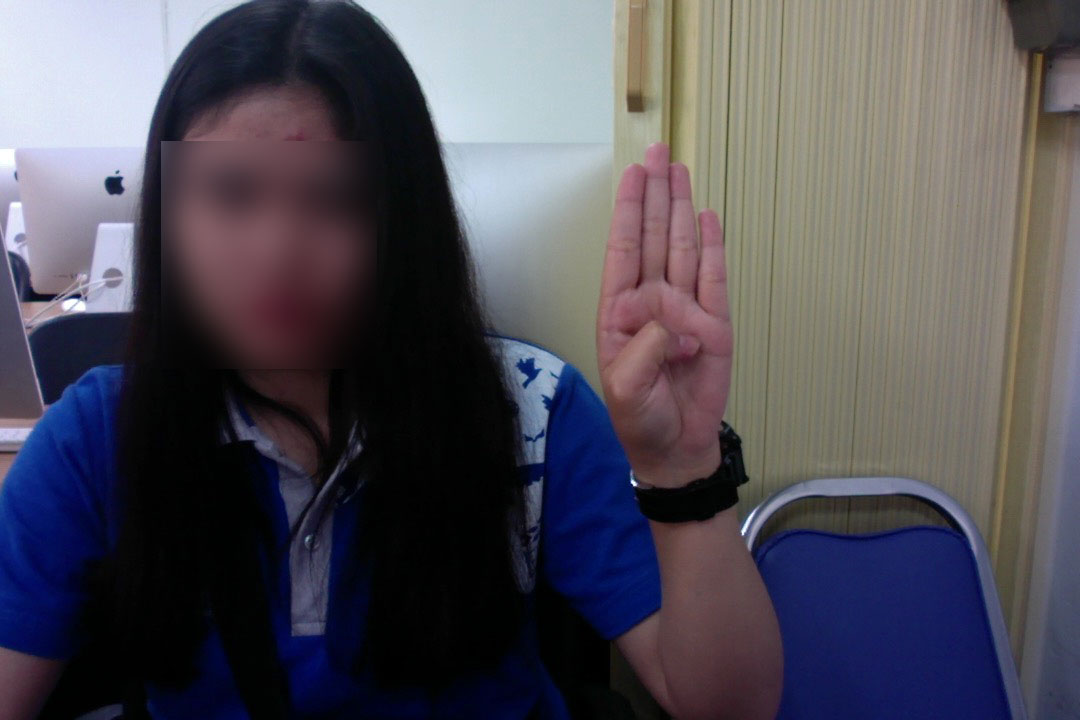bor: (588, 132, 745, 471)
